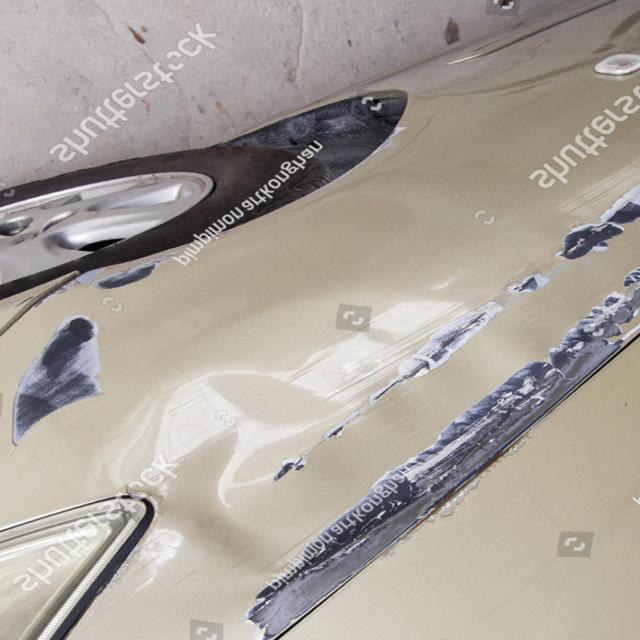scratch: (204, 168, 631, 640), (0, 230, 173, 441)
